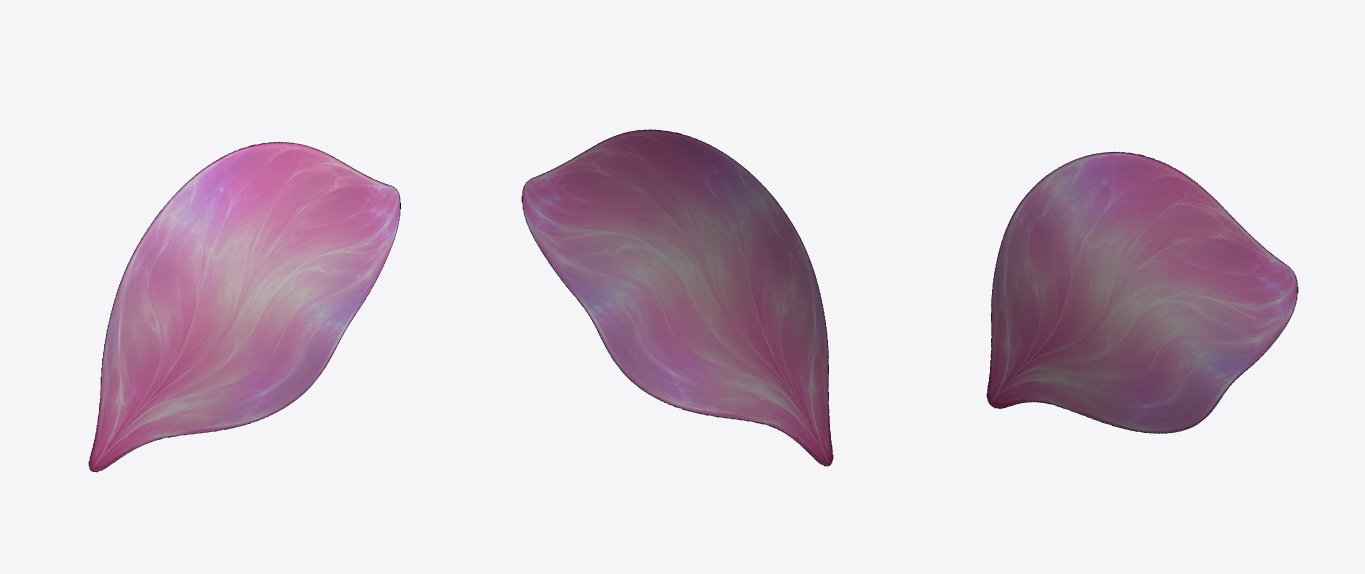
Rendered from petal_2.glb.
3 views of the same model, side by side, from view 1: azimuth 30°, elevation 25°; view 2: azimuth 150°, elevation 25°; view 3: azimuth 330°, elevation 25° (orthographic).
Bounding box in the file's own units: 1 × 1 × 0.0875.
1 material, 1 textured.
